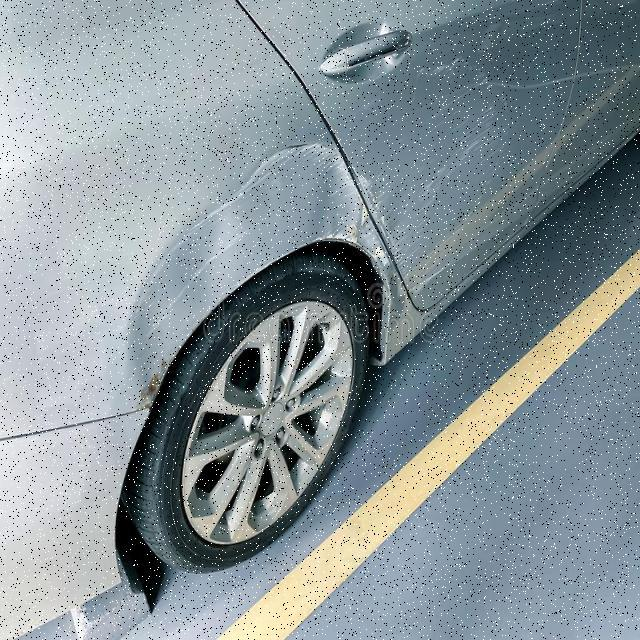doorouter-dent: (326, 0, 536, 255)
quaterpanel-dent: (10, 61, 327, 411)
